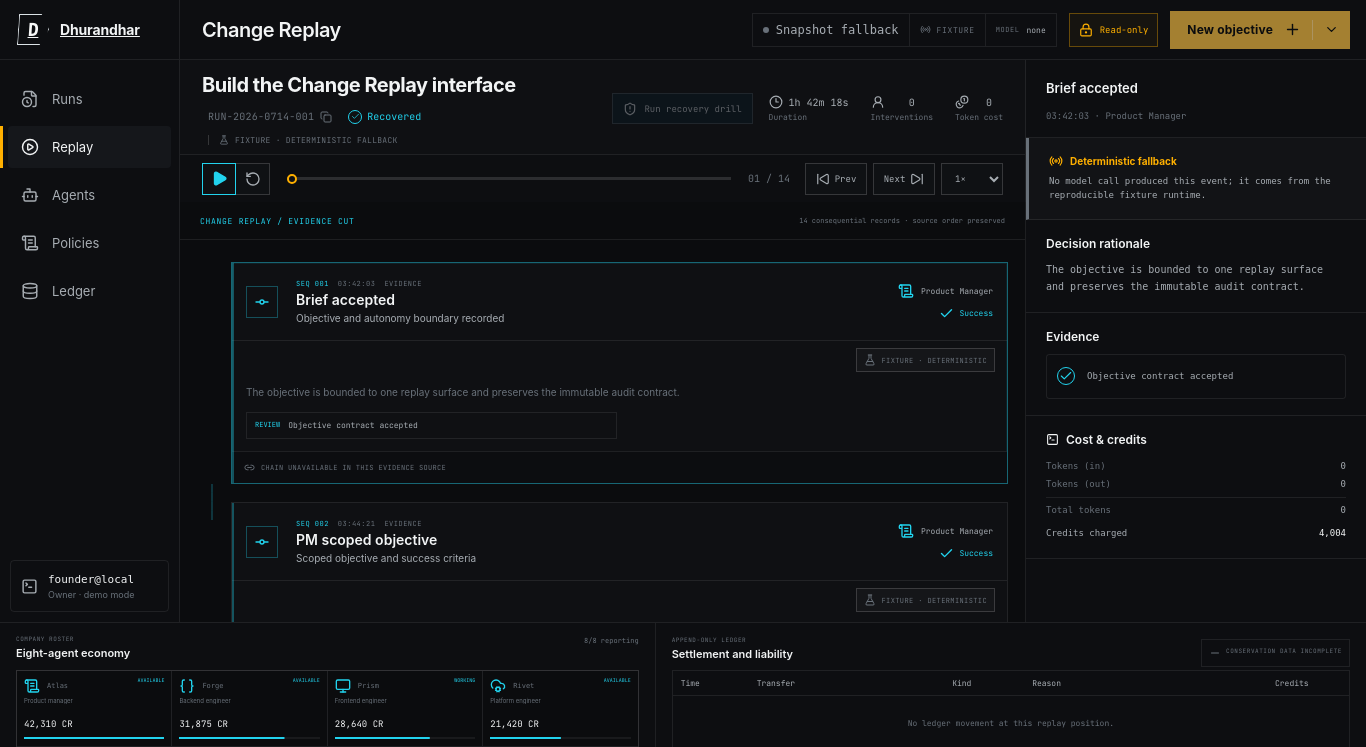
Scenario: Dhurandhar replay › stays visibly read-only until an in-memory operator token is loaded
Check: the button "New objective" is disabled, box [1170,10,1350,48]
Click the button "Read-only": (1114, 30) [1069,12,1158,46]
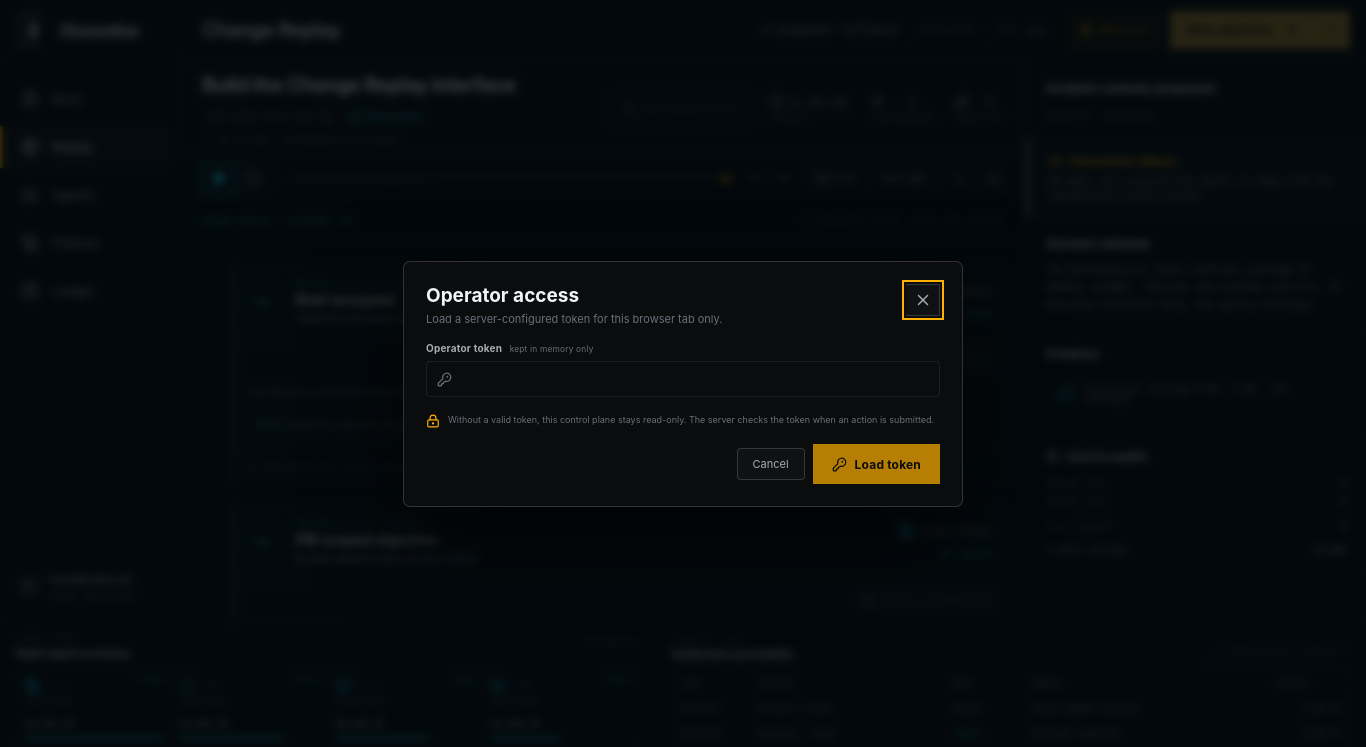
In the password field labelled "Operator token kept in memory only": (683, 379) [426,361,940,397], type "operator-token-123456789"
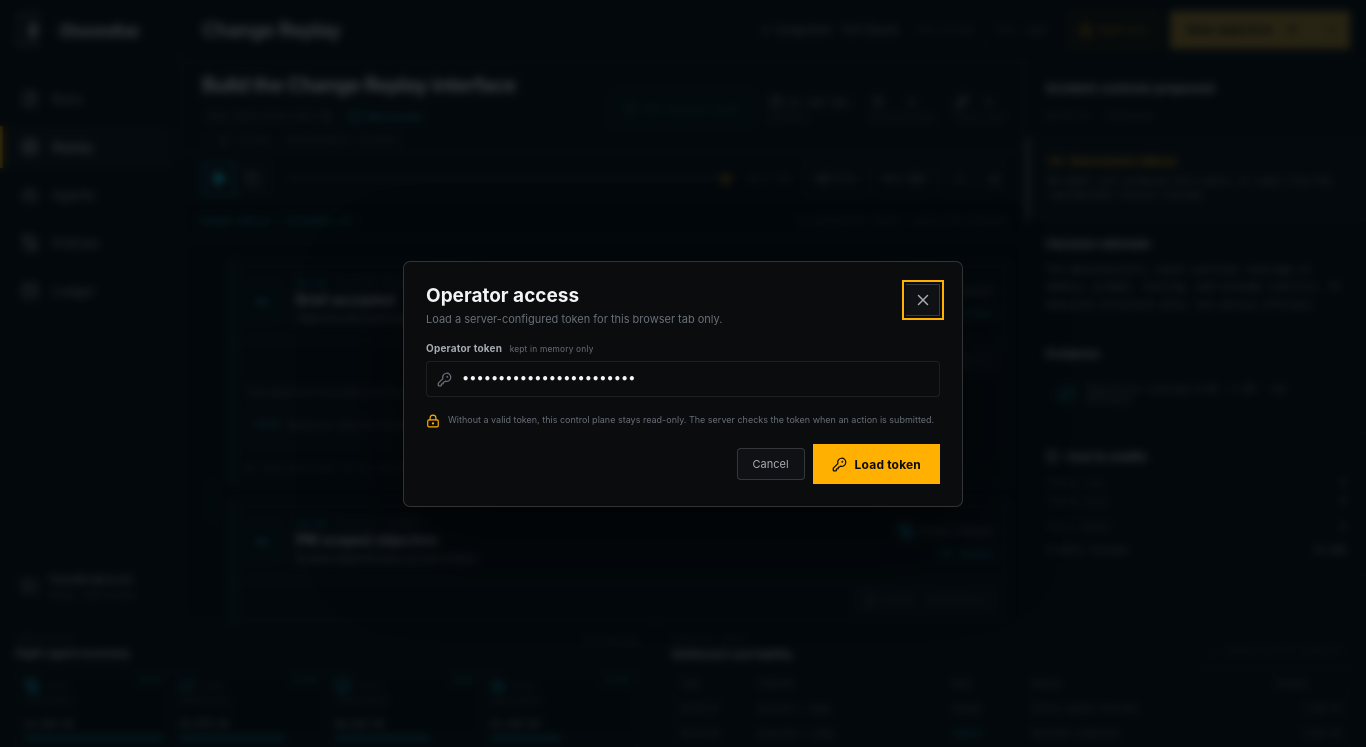
Click the button "Load token": (876, 464) [813,444,940,484]
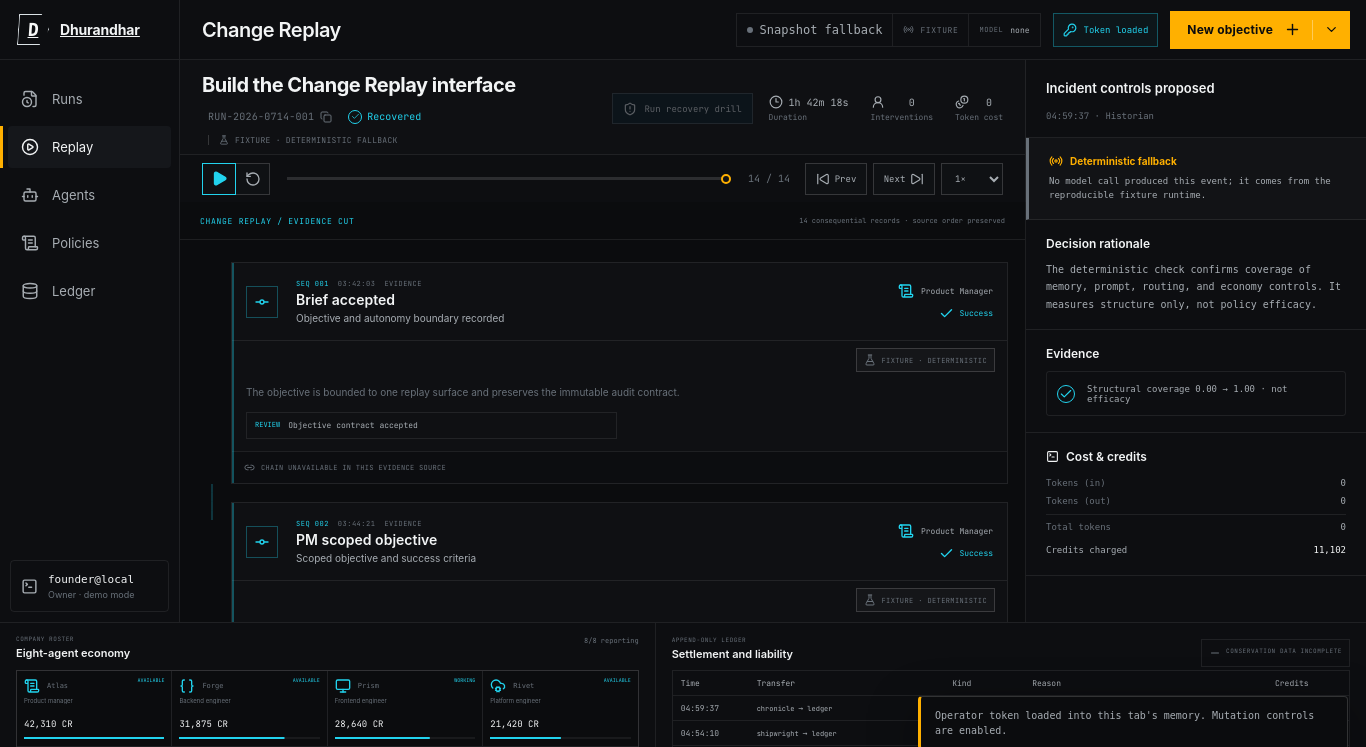
Check: the button with aria-label "operator token loaded" is shown
Check: the button "New objective" is enabled, box [1170,10,1350,48]
Click the button with aria-label "operator token loaded": (1105, 30) [1052,12,1158,46]
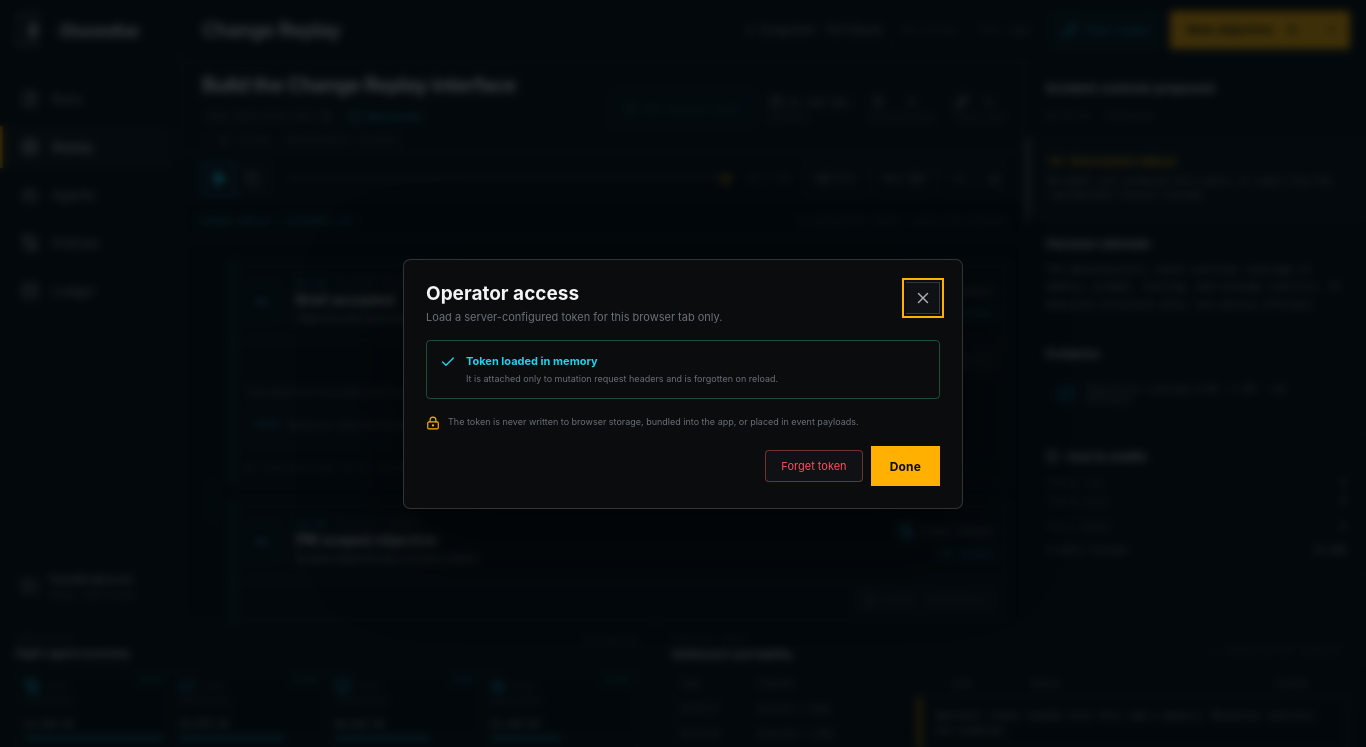
Click the button "Forget token": (814, 466) [765,450,863,482]
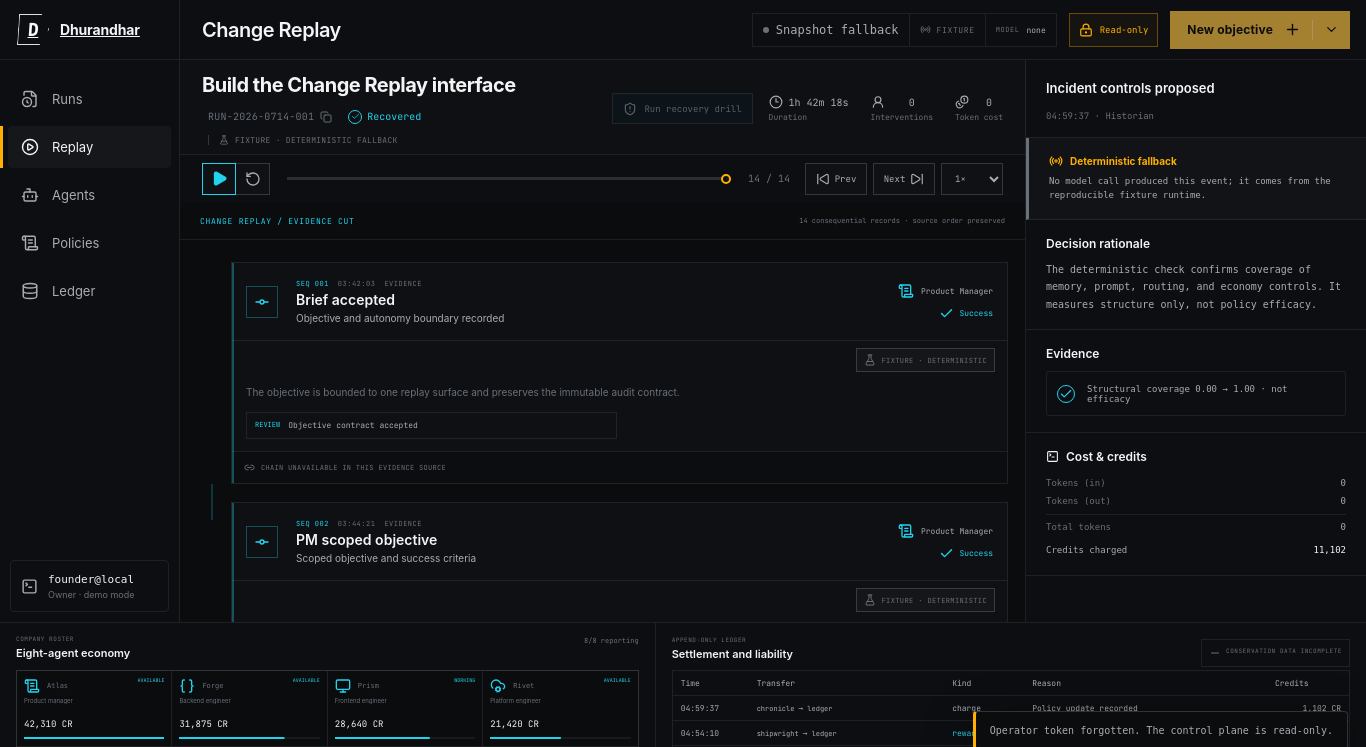
Check: the button "Read-only" is shown, box [1069,12,1158,46]
Check: the button "New objective" is disabled, box [1170,10,1350,48]
